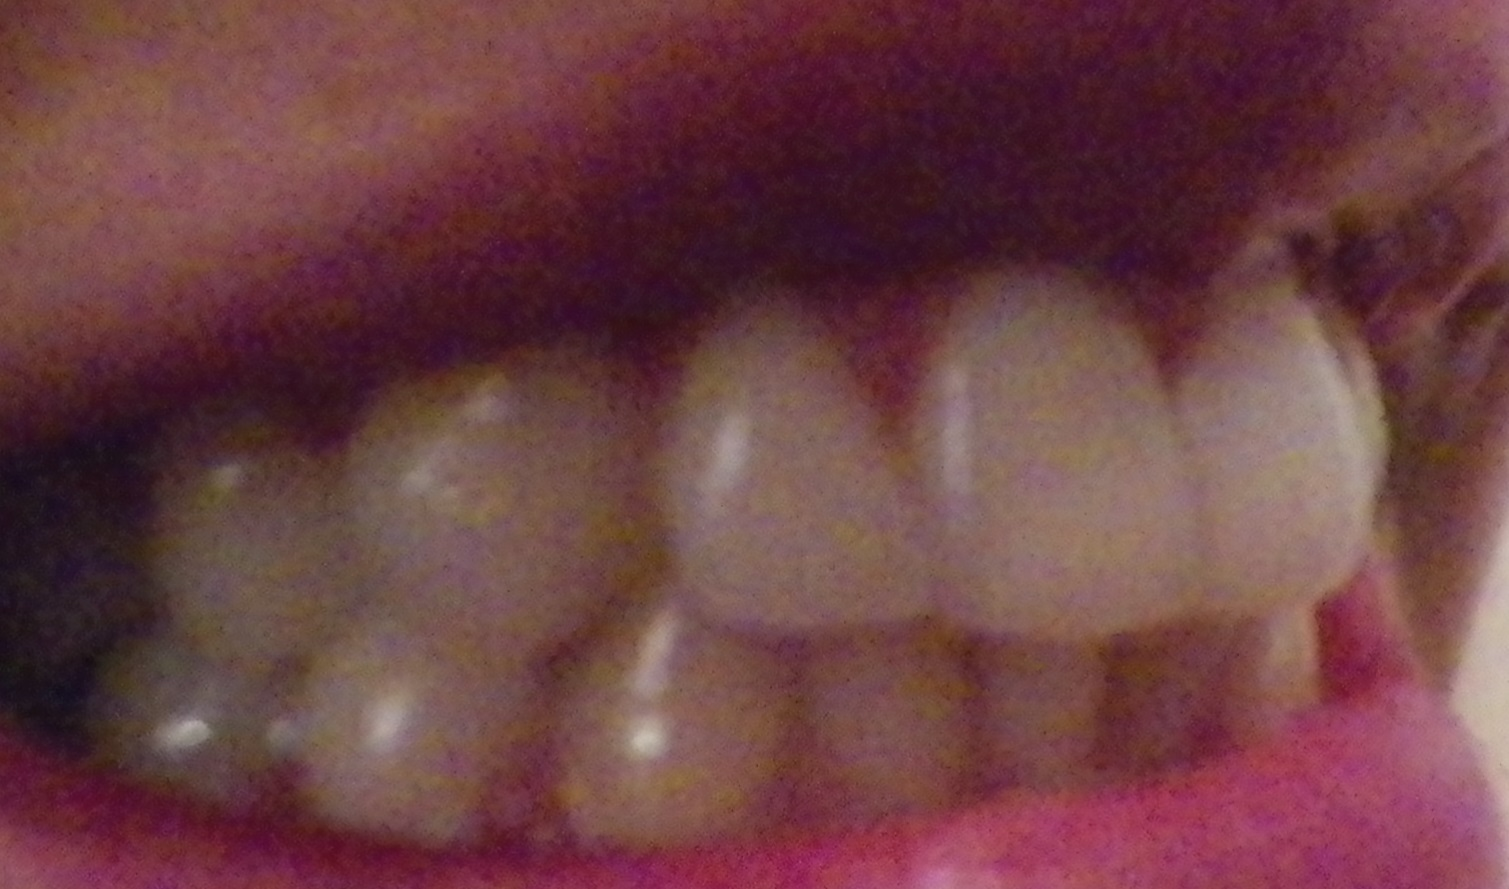boca: (85, 258, 1397, 817)
